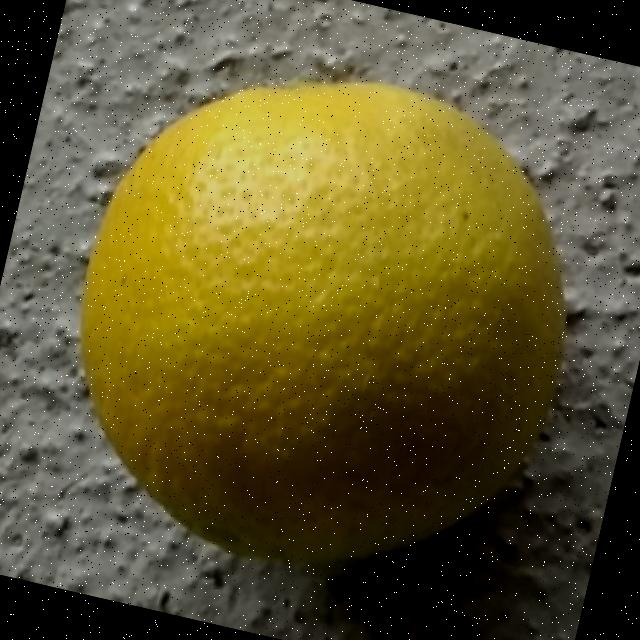Lemon: (29, 23, 616, 616)
